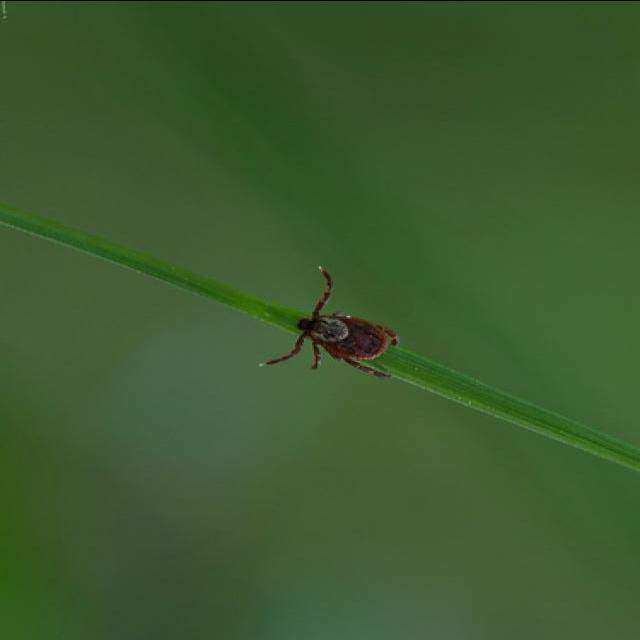Dermacentor Reticulatus-F: (294, 265, 399, 379)
